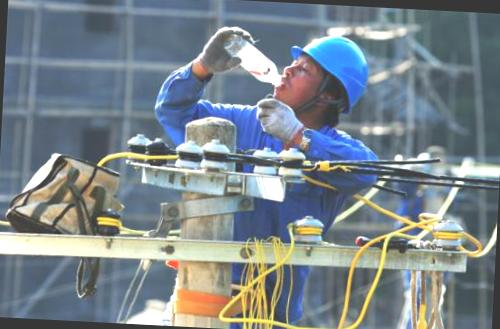person: (144, 19, 397, 329)
